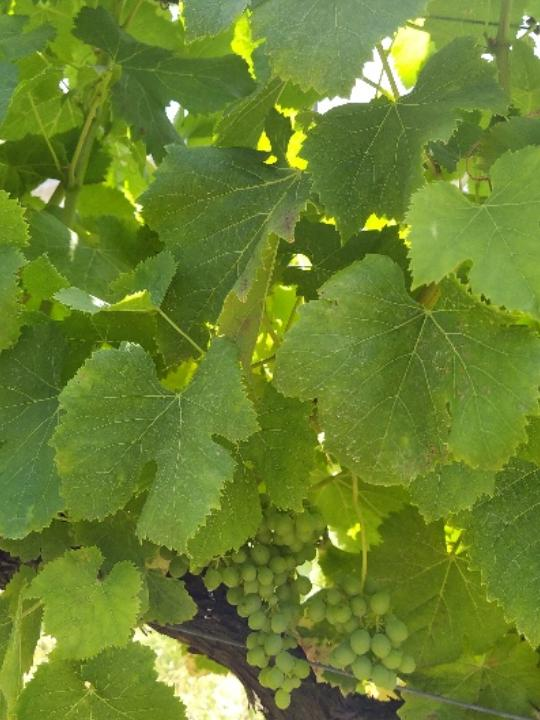grape: (192, 502, 424, 713)
